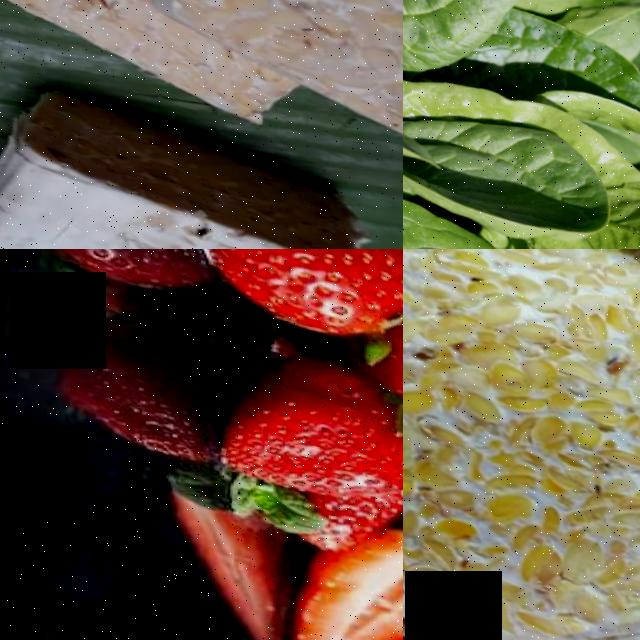spinach: (403, 95, 617, 241), (403, 0, 544, 90)
strawberry: (194, 337, 403, 515), (140, 249, 403, 351), (310, 514, 403, 640)
tempeh: (403, 322, 640, 640), (0, 74, 378, 249), (147, 0, 403, 156), (403, 249, 557, 359)
